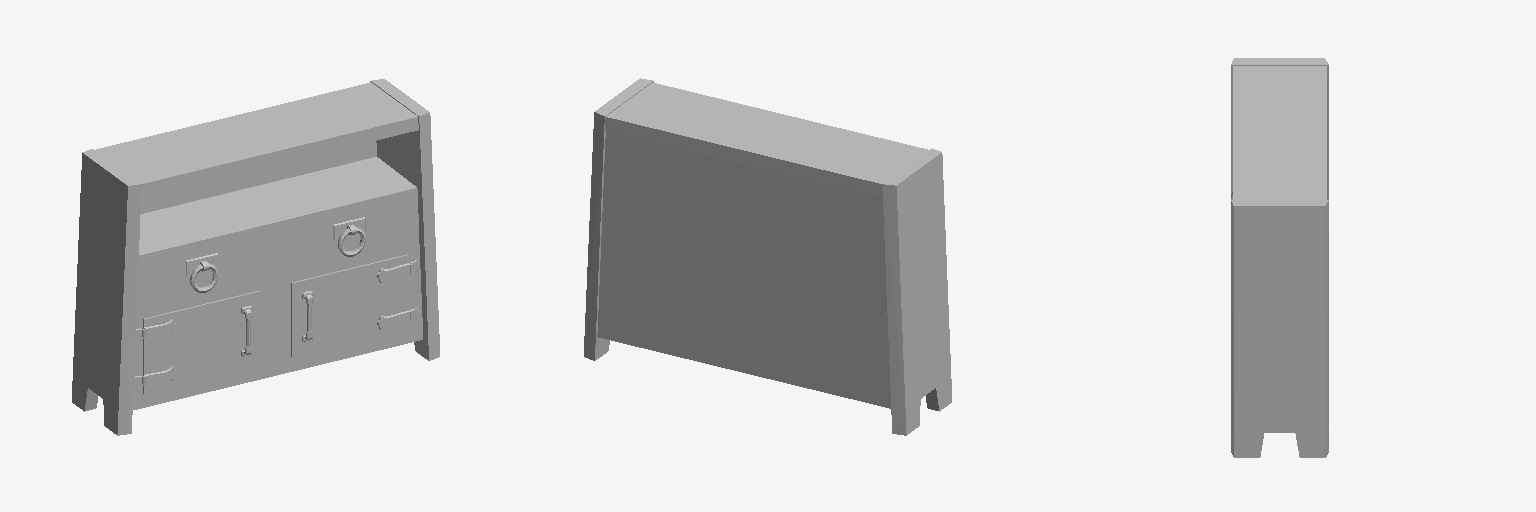
Rendered from Cabinet.obj.
The picture shows the model from 3 angles: view 1: azimuth 30°, elevation 25°; view 2: azimuth 150°, elevation 25°; view 3: azimuth 270°, elevation 25°; orthographic projection.
Visible parts, largest first — view 1: Cabinet_Cube.098; view 2: Cabinet_Cube.098; view 3: Cabinet_Cube.098.
Part boxes in pixels (x1,y1,x2,y2): Cabinet_Cube.098: (72,79,439,435); Cabinet_Cube.098: (584,78,951,435); Cabinet_Cube.098: (1231,58,1328,457).
Bounding box in the file's own units: 1.36 × 0.9974 × 0.3571.